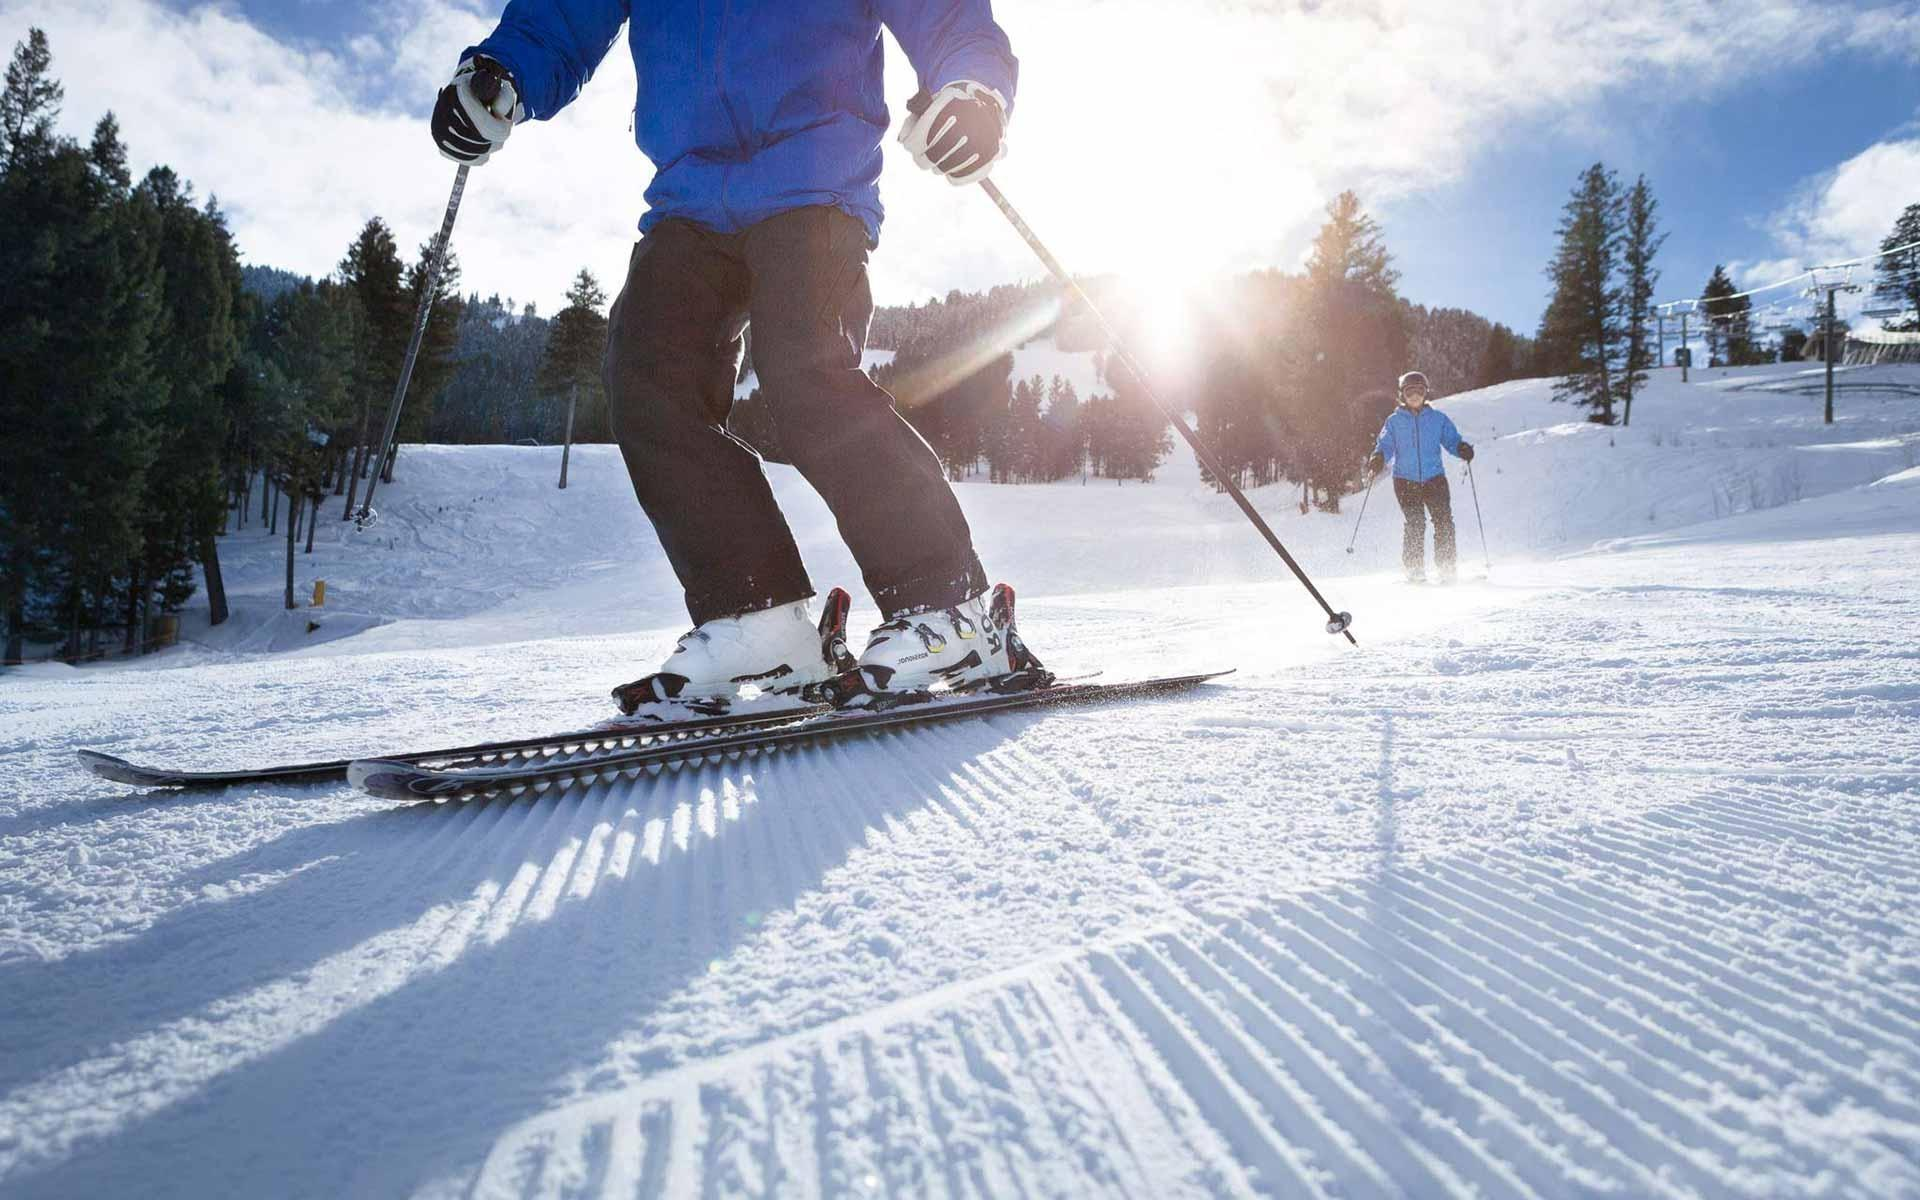Skis: (54, 594, 1215, 846)
